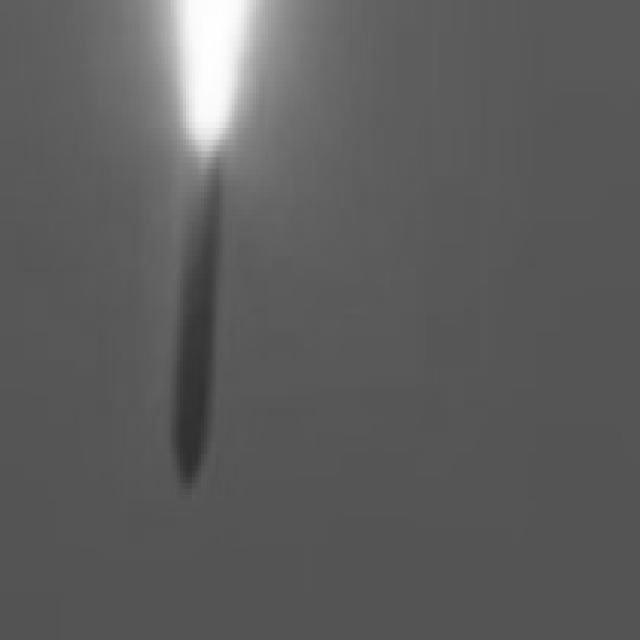Missile: (164, 139, 231, 499)
